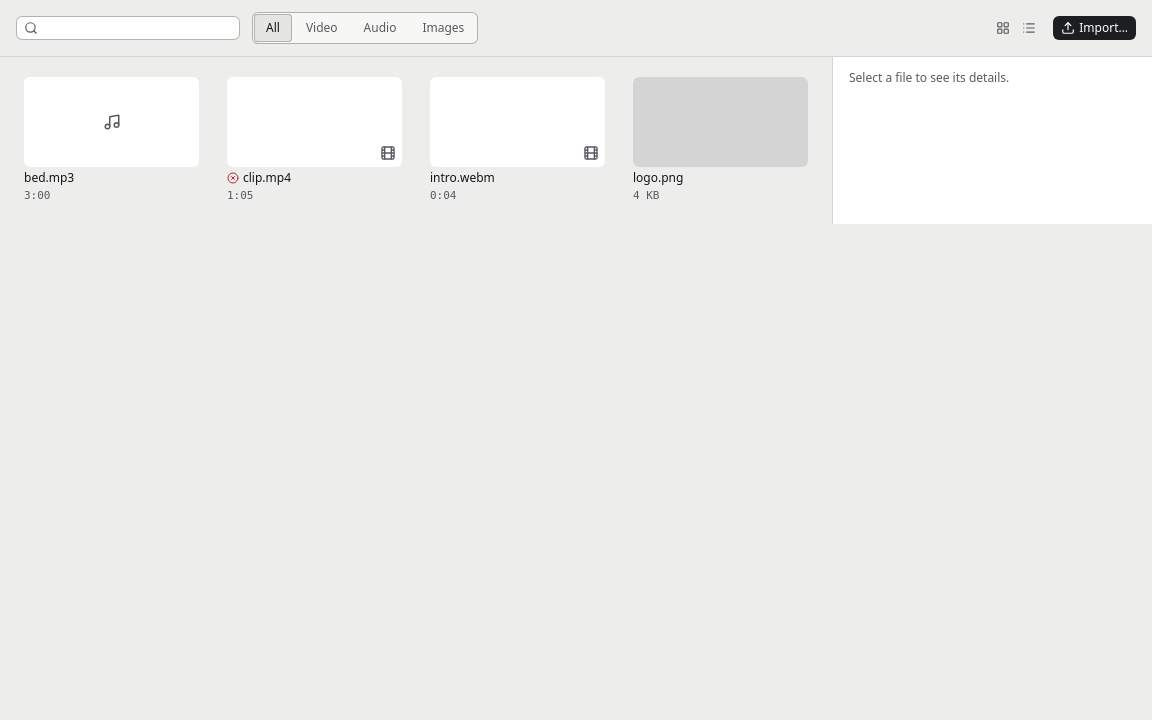
media library › shows imports with progress and Cancel
Expected: the number of options is 4, [16, 69, 207, 212]; [219, 69, 410, 212]; [422, 69, 613, 212]; [625, 69, 816, 212]
Click the button "Import…" at coordinates (1095, 28), box [1053, 16, 1136, 40]
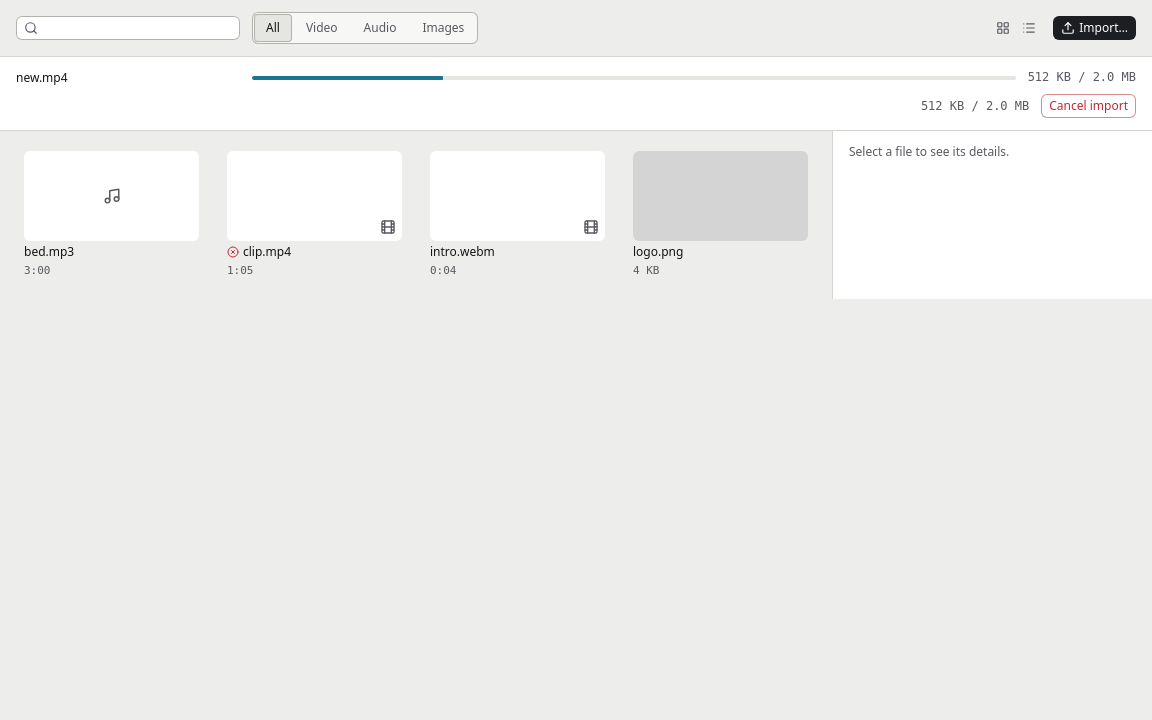
Click the button "Cancel import" at coordinates (1089, 106), box [1041, 94, 1136, 118]
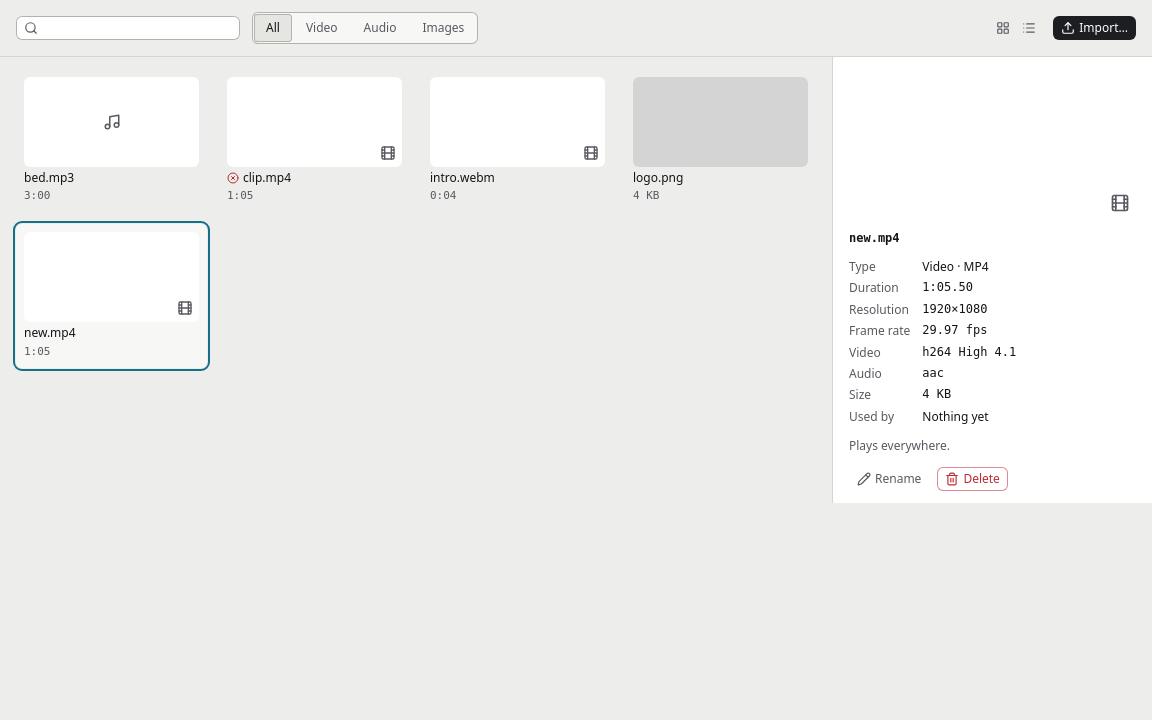
Expected: the progress indicator is gone
